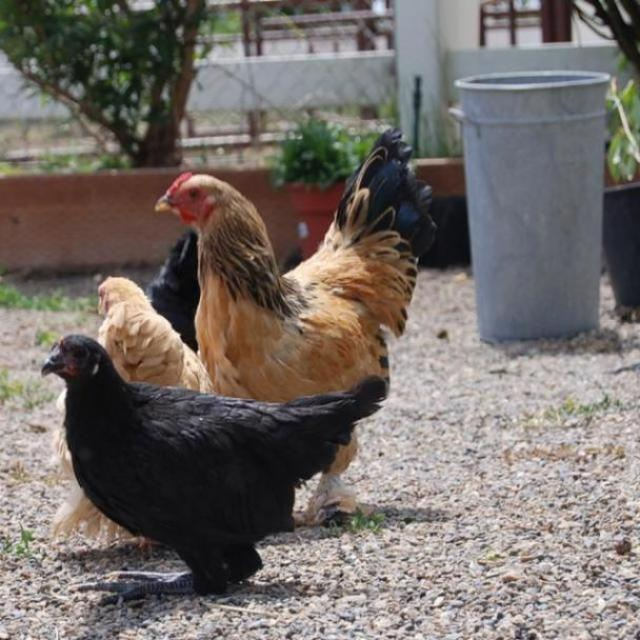Chicken: (150, 124, 443, 531), (48, 275, 217, 541), (140, 221, 197, 372)
